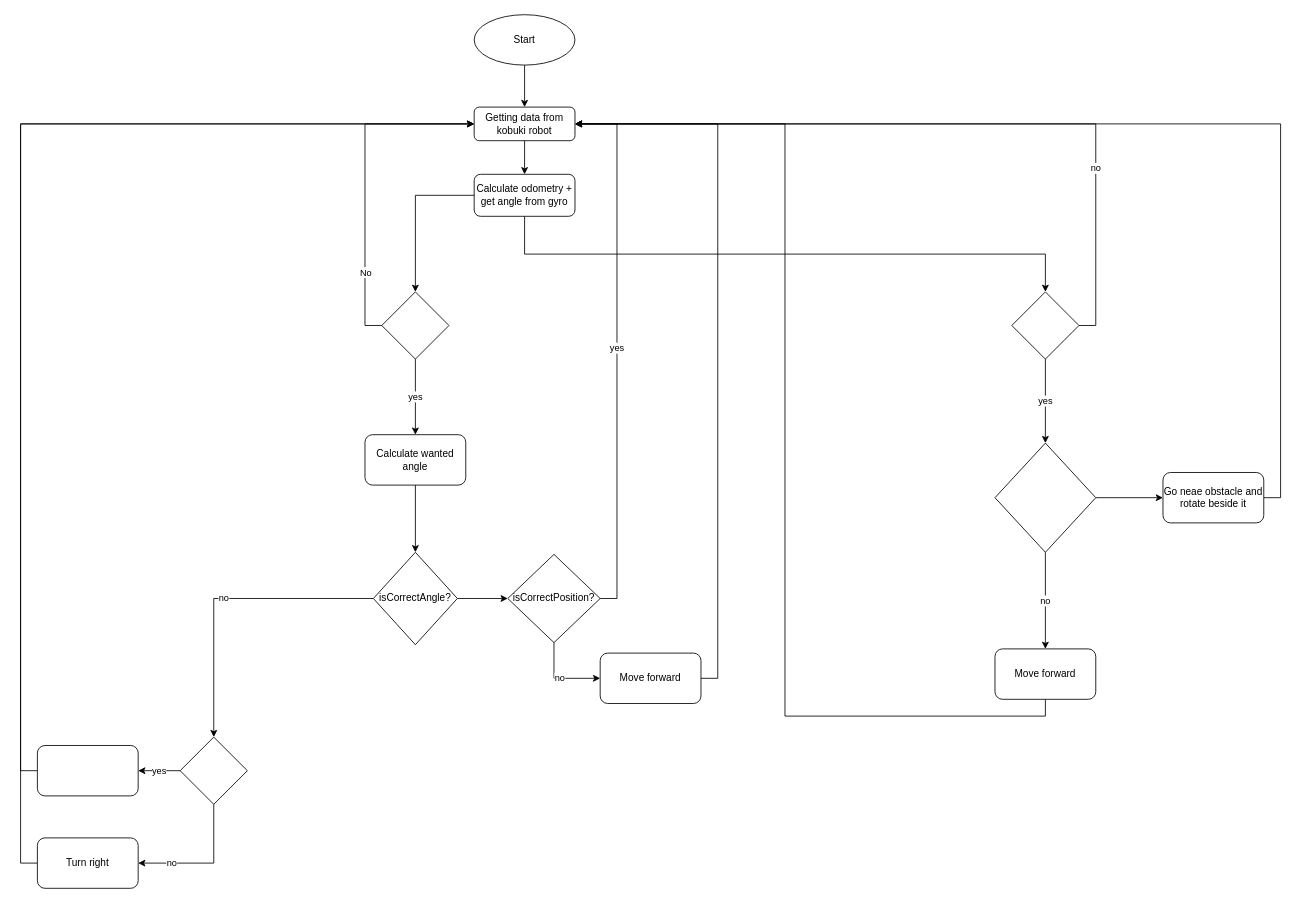
Some shapes in this 1302 by 903 pixel diagram are drawn without their labels. Here are the shapes that lost their labels. From the top down, the box of each, then its label:
(381, 291, 449, 359): isTask1?
(1011, 291, 1079, 359): isTask2?
(994, 442, 1096, 552): isObstacleInPath?
(37, 745, 138, 796): Turn left
(179, 736, 247, 804): turnLeft?
